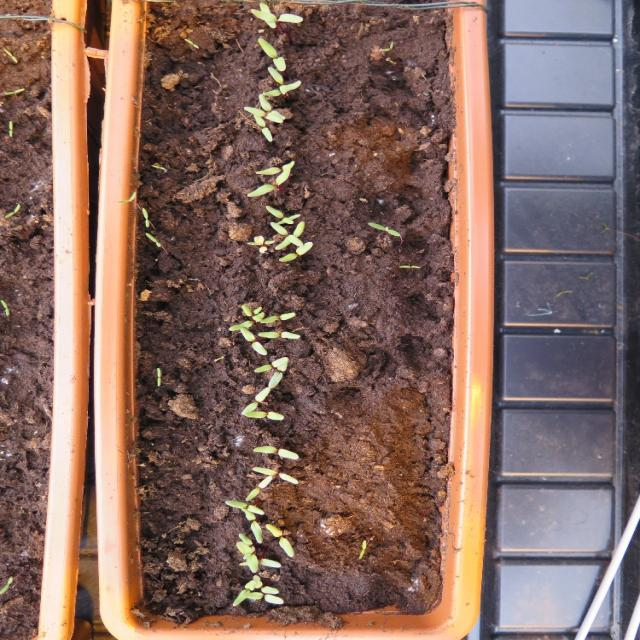crop: (263, 522, 294, 558), (250, 444, 299, 462), (256, 330, 300, 340)
weed: (366, 220, 400, 238), (114, 189, 136, 205), (144, 230, 160, 248), (182, 36, 198, 50), (358, 538, 366, 560), (141, 205, 148, 229), (398, 264, 420, 270), (154, 364, 160, 386)
